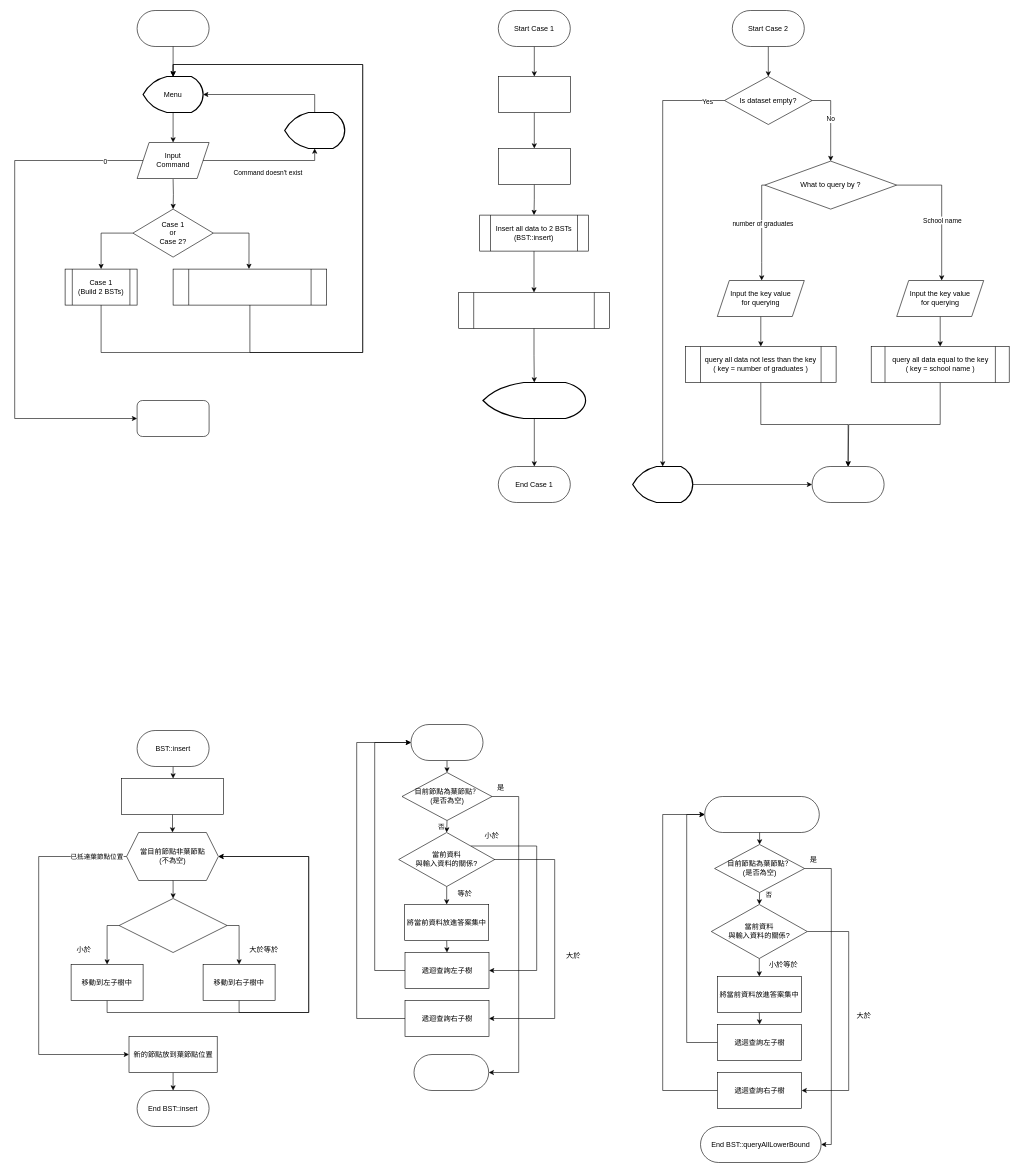
The diagram is 1020 pixels wide and 1173 high, and some of its shapes have lost their labels. The shapes that lost their labels are listed below. From the top down, each one's box as (x1, y1, x2, y2) in pixels, then its label:
(136, 10, 209, 46): Start Main
(498, 76, 570, 112): Clear all previous data
(284, 112, 345, 149): Command Error
(498, 148, 570, 184): Read data from the given file
(172, 268, 327, 305): Case 2 (Query by Number of graduates, Query by School Name)
(458, 292, 609, 328): Calculate the Heights of 2 BSTs
(136, 400, 209, 436): End Main
(482, 382, 586, 419): Print the Heights of 2 BSTs
(632, 466, 693, 503): Request user run case 1 first
(812, 466, 884, 502): End Case 2
(410, 724, 483, 760): BST::queryAll
(121, 778, 224, 814): 建立新的節點並存入資料
(704, 796, 819, 832): BST::queryAllLowerBound
(118, 898, 227, 952): 插入的數據大於等於 或小於目前數據?
(413, 1054, 489, 1090): End BST::queryAll
